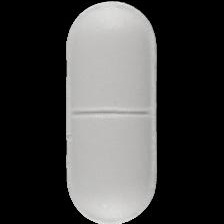11822-0691: (0, 0, 224, 224)
